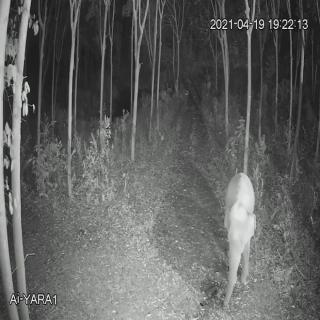Elephant: (216, 166, 259, 312)
